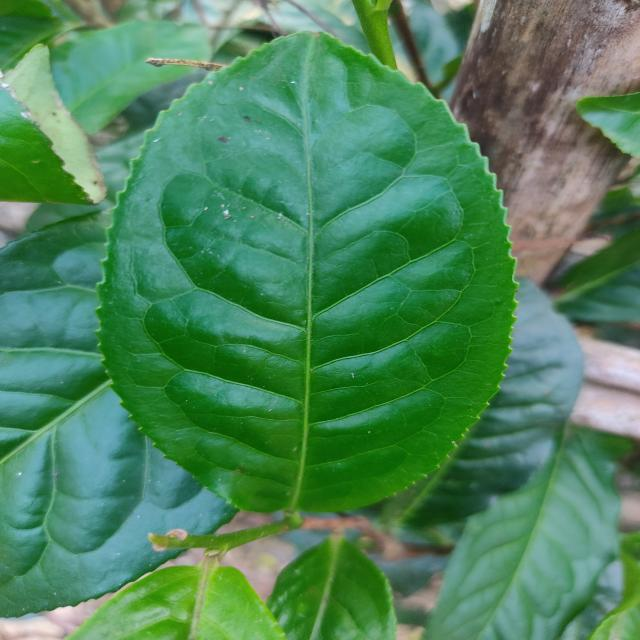Category D(7+ days, Not for Tea): (86, 22, 534, 527)
